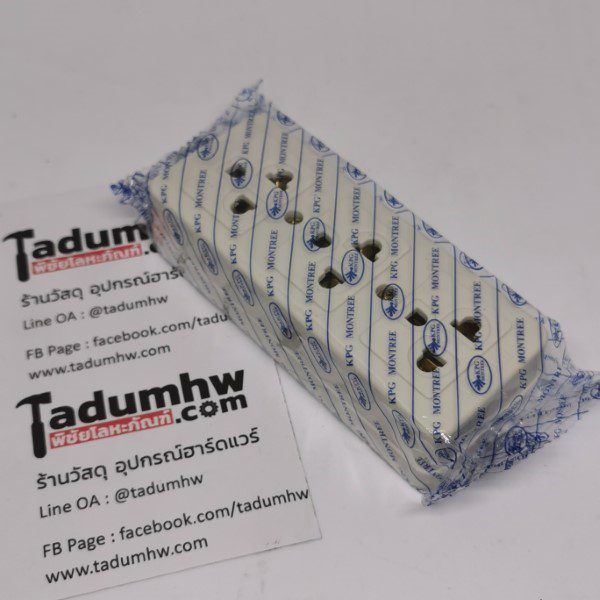Three_eye_plug: (135, 103, 559, 514)
